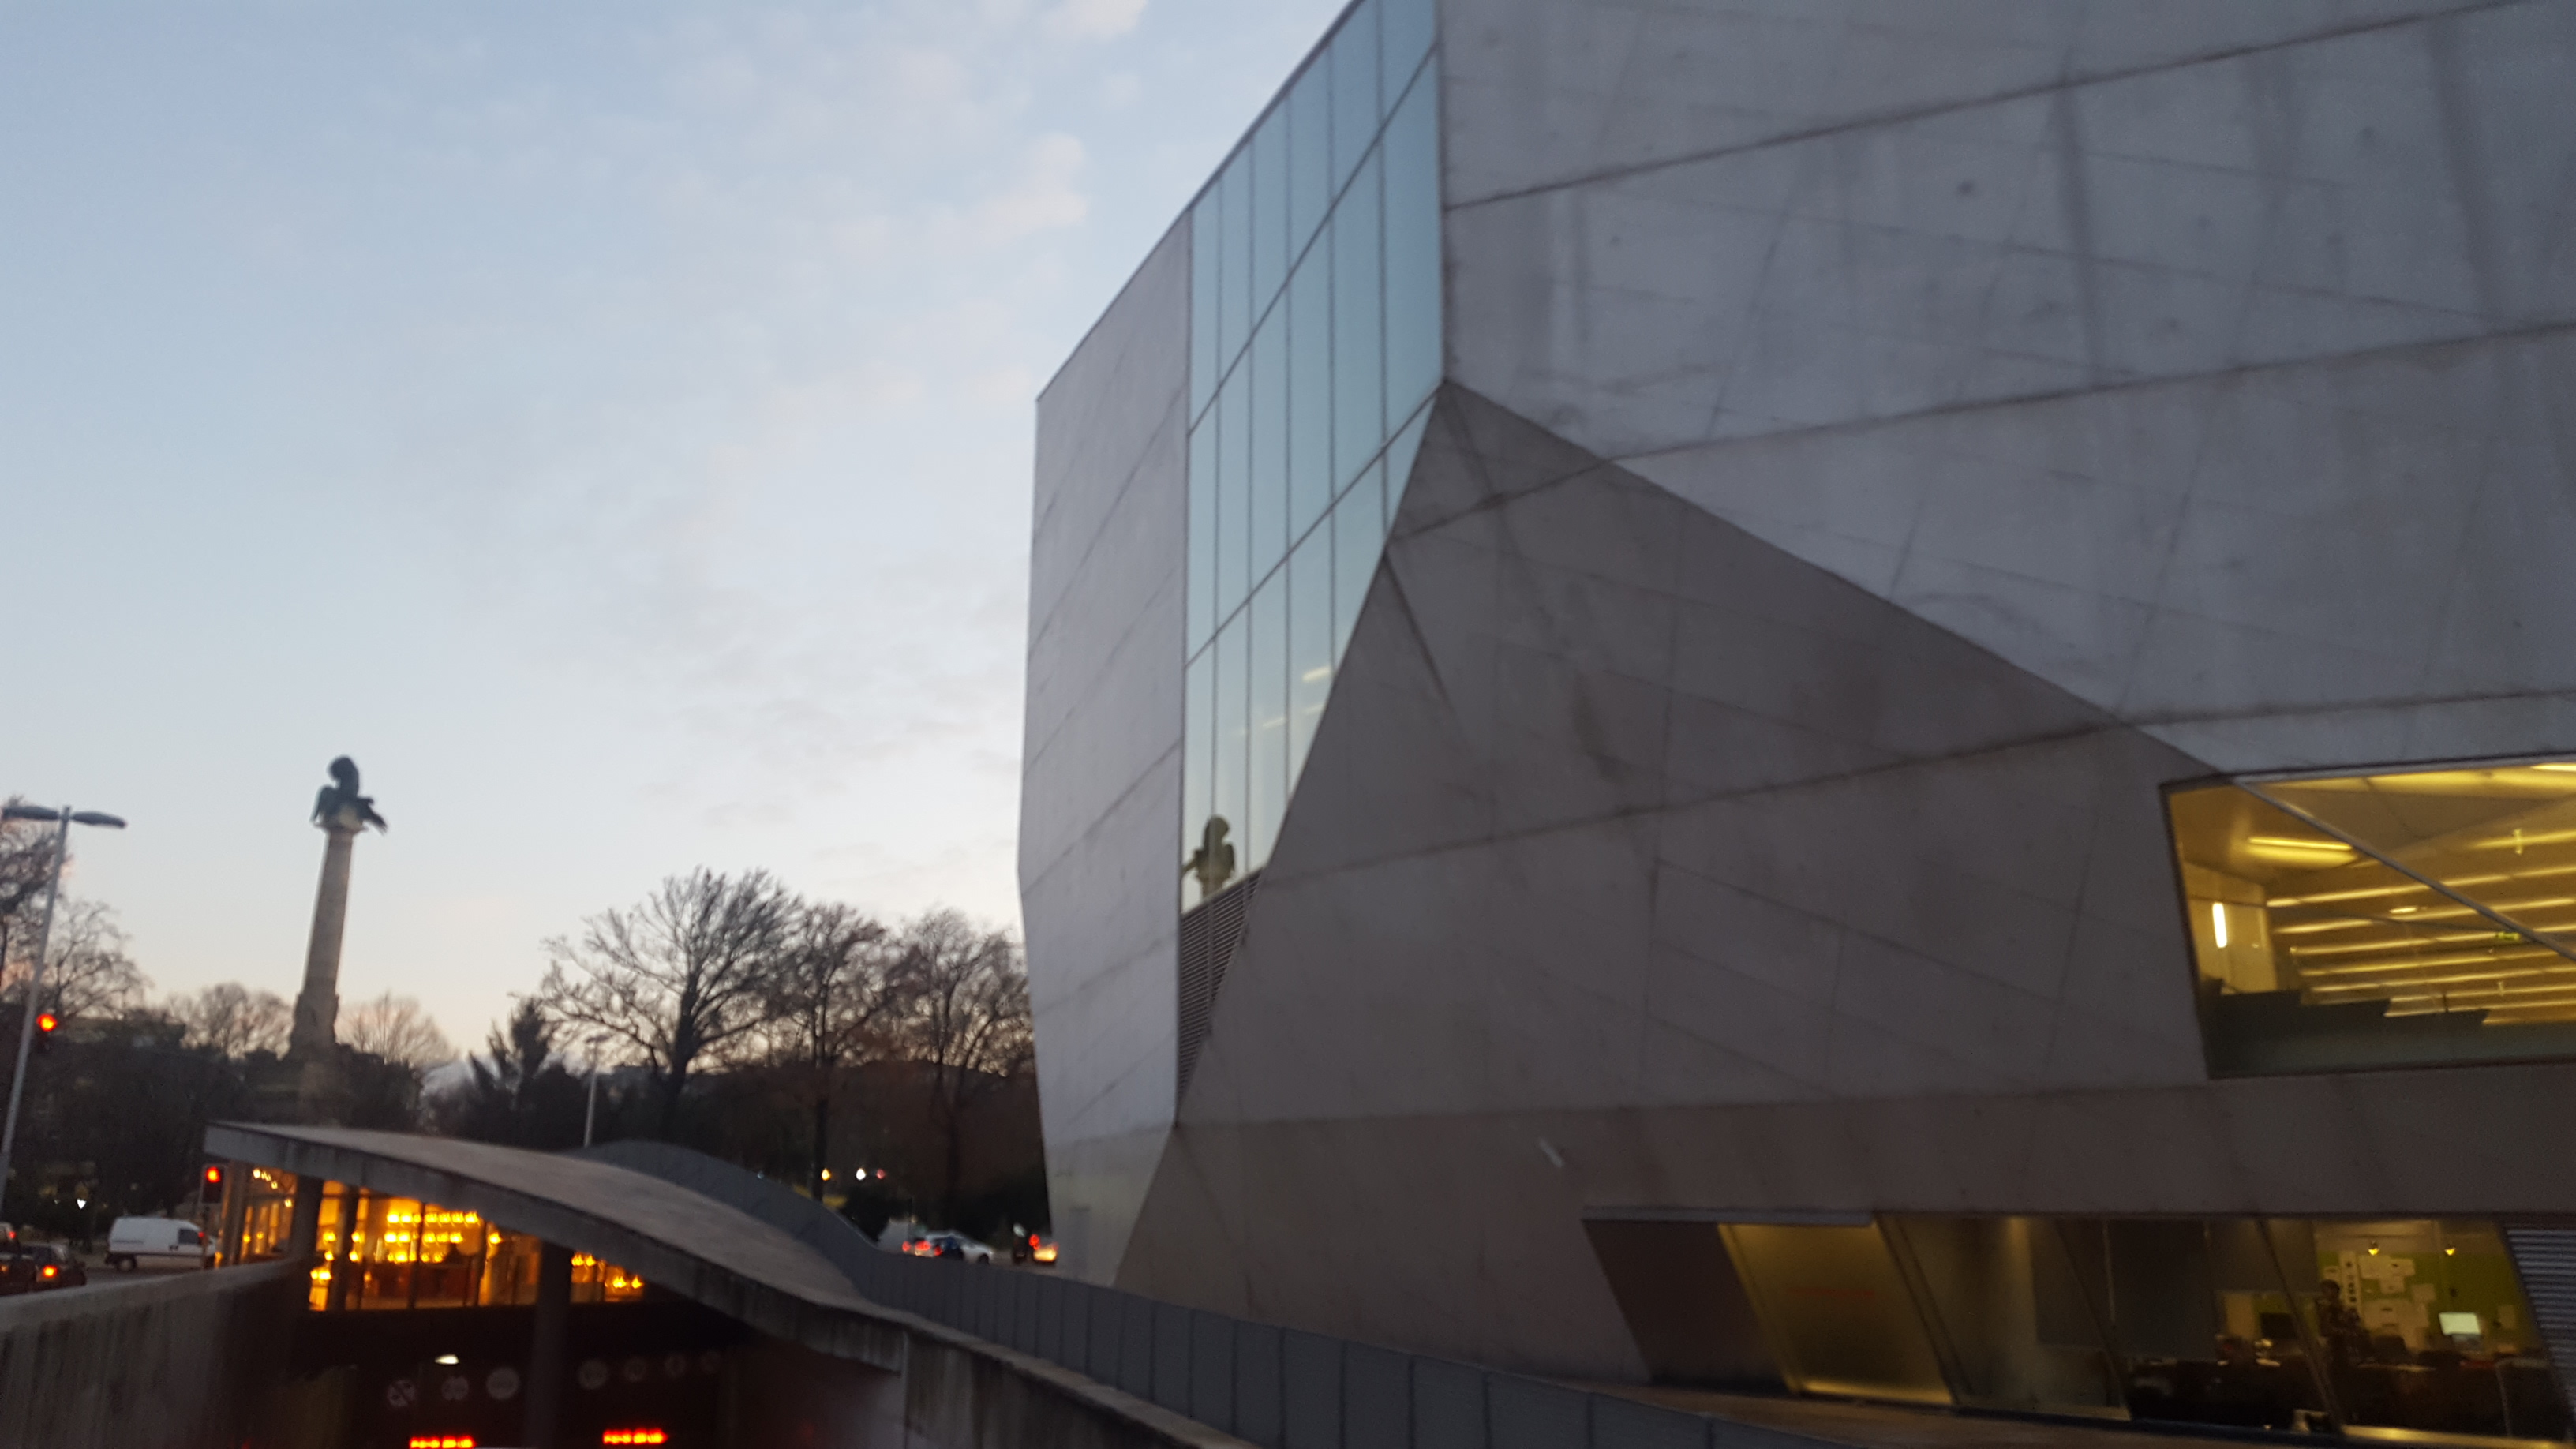musica: (1046, 0, 1530, 1444)
